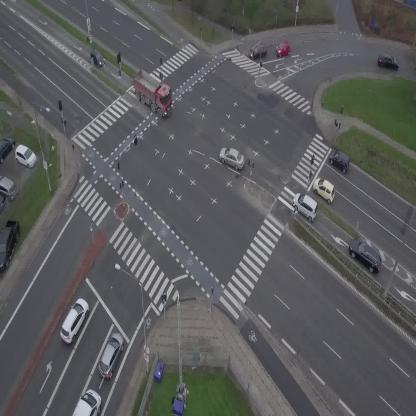car: (55, 295, 93, 346), (343, 234, 388, 277), (94, 330, 128, 380), (288, 189, 324, 223), (216, 143, 249, 172), (309, 175, 341, 204), (326, 147, 354, 173), (86, 48, 107, 69), (377, 53, 400, 70), (249, 43, 268, 58), (275, 42, 291, 57)
lorry: (125, 65, 181, 119), (72, 388, 101, 416)
